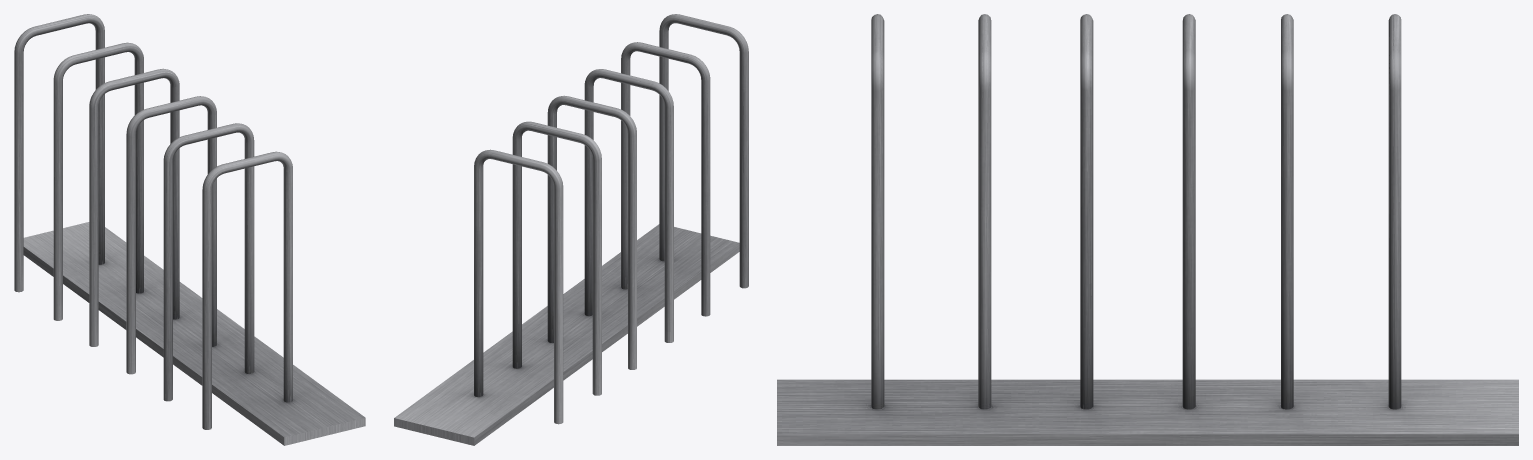
Rendered from street_el_4.glb.
The picture shows the model from 3 angles, left to right: view 1: azimuth 30°, elevation 25°; view 2: azimuth 150°, elevation 25°; view 3: azimuth 270°, elevation 25°; orthographic projection. The views are drawn at different scales.
Visible parts, largest first — view 1: street_el_4; view 2: street_el_4; view 3: street_el_4.
Part boxes in pixels (x1,y1,x2,y2): street_el_4: [14, 14, 365, 445]; street_el_4: [394, 14, 748, 445]; street_el_4: [777, 14, 1518, 445].
Size of the model in its own units: 0.31 by 0.6125 by 1.15.
Materials: 1 (1 with a texture image).
